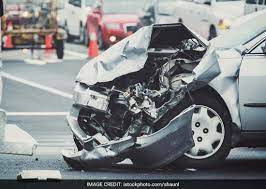accident: (52, 20, 257, 173)
